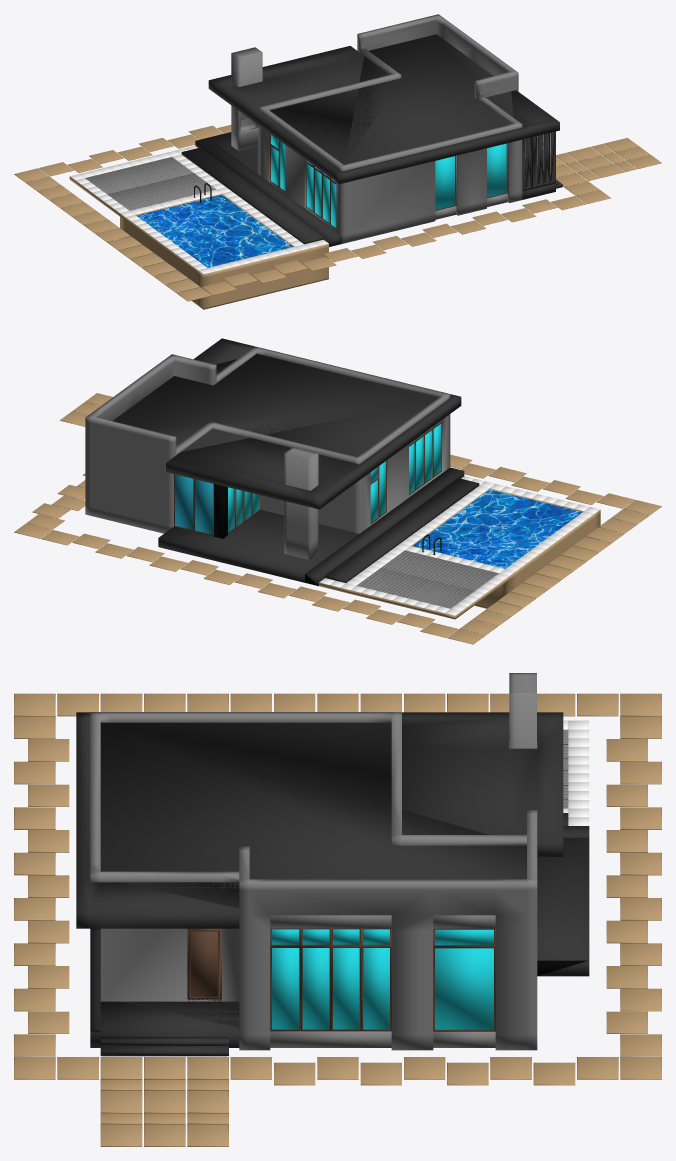
File: House5.obj
3 renders of one model, top to bottom at view 1: azimuth 30°, elevation 25°; view 2: azimuth 150°, elevation 25°; view 3: azimuth 270°, elevation 25°, orthographic. The views are drawn at different scales.
Parts seen in each view (by area): view 1: cottage, walkway, water, pool, ceramic_tile, Planks, window_glass_005, window_glass_01, window_glass_002, window_glass_006; view 2: cottage, walkway, water, ceramic_tile, Planks, pool, window_glass_007, window_glass_005, window_glass_008, window_glass_006, window_frame_05; view 3: cottage, walkway, window_glass_003, window_glass_004, window_frame_03, ceramic_tile, door_glass_001, window_frame_04, door_frame_001.
Part boxes in pixels (bbox=[...]): cottage: bbox=[181, 14, 562, 246]; walkway: bbox=[14, 125, 661, 301]; water: bbox=[137, 195, 292, 267]; pool: bbox=[69, 177, 328, 309]; ceramic_tile: bbox=[70, 146, 328, 274]; Planks: bbox=[85, 157, 215, 210]; window_glass_005: bbox=[306, 161, 336, 227]; window_glass_01: bbox=[435, 156, 454, 209]; window_glass_002: bbox=[487, 143, 506, 197]; window_glass_006: bbox=[271, 134, 285, 190]; cottage: bbox=[85, 338, 479, 586]; walkway: bbox=[14, 393, 661, 644]; water: bbox=[413, 489, 581, 568]; ceramic_tile: bbox=[319, 476, 600, 615]; Planks: bbox=[357, 550, 498, 608]; pool: bbox=[319, 488, 600, 619]; window_glass_007: bbox=[175, 474, 213, 534]; window_glass_005: bbox=[409, 421, 441, 493]; window_glass_008: bbox=[228, 487, 259, 532]; window_glass_006: bbox=[370, 461, 385, 522]; window_frame_05: bbox=[409, 420, 441, 495]; cottage: bbox=[76, 673, 589, 1056]; walkway: bbox=[14, 693, 661, 1146]; window_glass_003: bbox=[272, 929, 389, 1029]; window_glass_004: bbox=[435, 929, 493, 1029]; window_frame_03: bbox=[270, 928, 391, 1031]; ceramic_tile: bbox=[563, 720, 589, 825]; door_glass_001: bbox=[190, 931, 218, 996]; window_frame_04: bbox=[433, 928, 495, 1031]; door_frame_001: bbox=[187, 928, 221, 998].
Bounding box in the file's own units: 30900 × 7900 × 18700.
